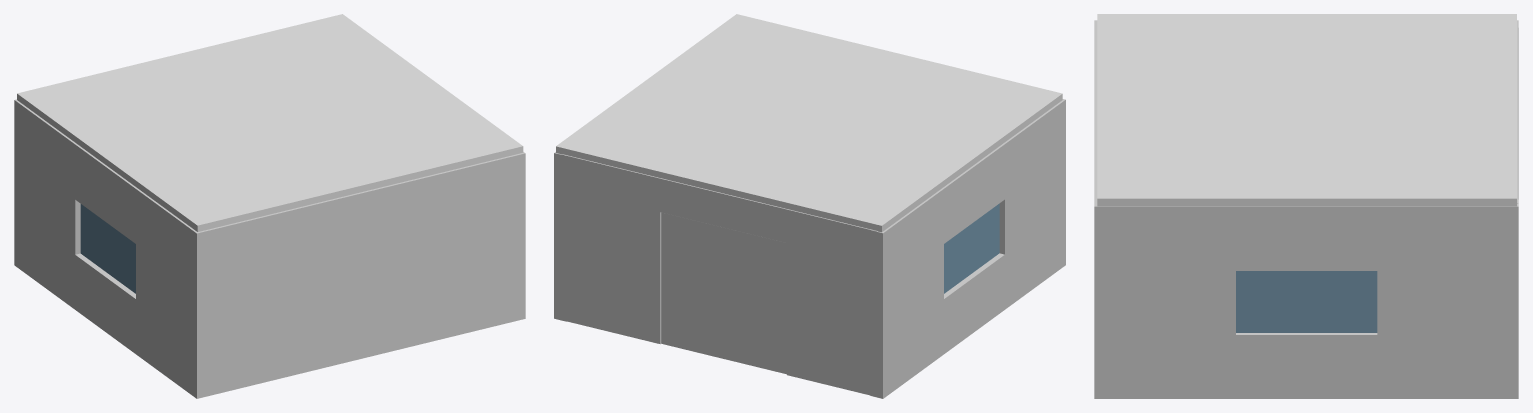
The picture shows the model from 3 angles, left to right: view 1: azimuth 30°, elevation 25°; view 2: azimuth 150°, elevation 25°; view 3: azimuth 270°, elevation 25°; orthographic projection. The views are drawn at different scales.
Visible parts, largest first — view 1: Box010, Box003, Box002, Box009; view 2: Box010, Plane001, Box002, Box007, Box006, Box009, Box004; view 3: Box010, Box004, Box008, Box003.
Boxes of the visible parts, left/top/right/bottom form: Box010: left=17, top=14, right=523, bottom=231; Box003: left=208, top=153, right=525, bottom=395; Box002: left=14, top=99, right=209, bottom=398; Box009: left=80, top=204, right=135, bottom=293; Box010: left=556, top=14, right=1062, bottom=232; Plane001: left=560, top=154, right=877, bottom=395; Box002: left=870, top=99, right=1065, bottom=398; Box007: left=661, top=212, right=724, bottom=358; Box006: left=724, top=228, right=786, bottom=374; Box009: left=944, top=203, right=999, bottom=293; Box004: left=554, top=152, right=566, bottom=321; Box010: left=1097, top=14, right=1516, bottom=206; Box004: left=1094, top=199, right=1518, bottom=398; Box008: left=1236, top=271, right=1377, bottom=332; Box003: left=1094, top=27, right=1108, bottom=206.
Bounding box in the file's own units: 205 × 103 × 197.
